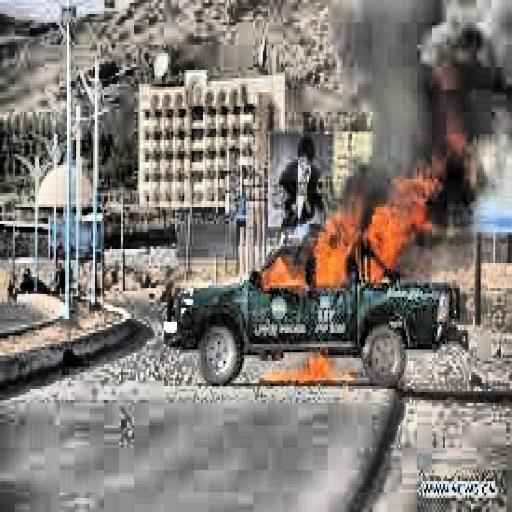fire: (259, 179, 441, 302), (249, 316, 365, 395)
